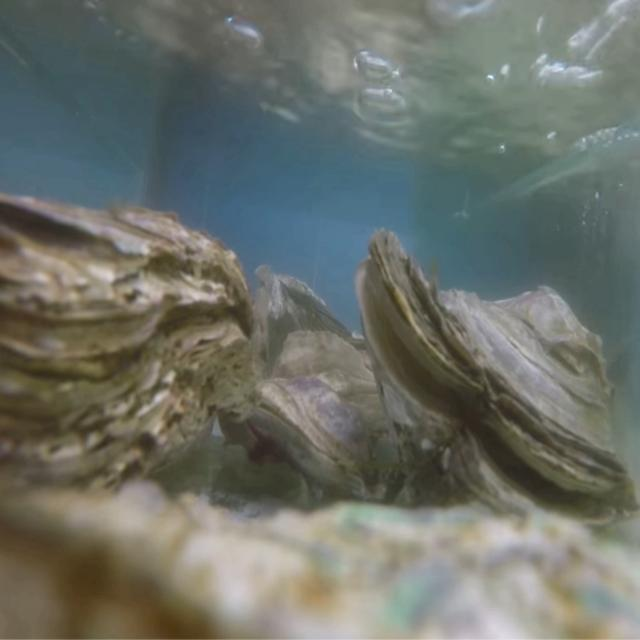Oyster-Closed: (0, 193, 256, 526), (252, 330, 414, 507)
Oyster-Indeterminate: (0, 482, 640, 640), (254, 261, 370, 377)
Oyster-Open: (355, 229, 640, 541)
